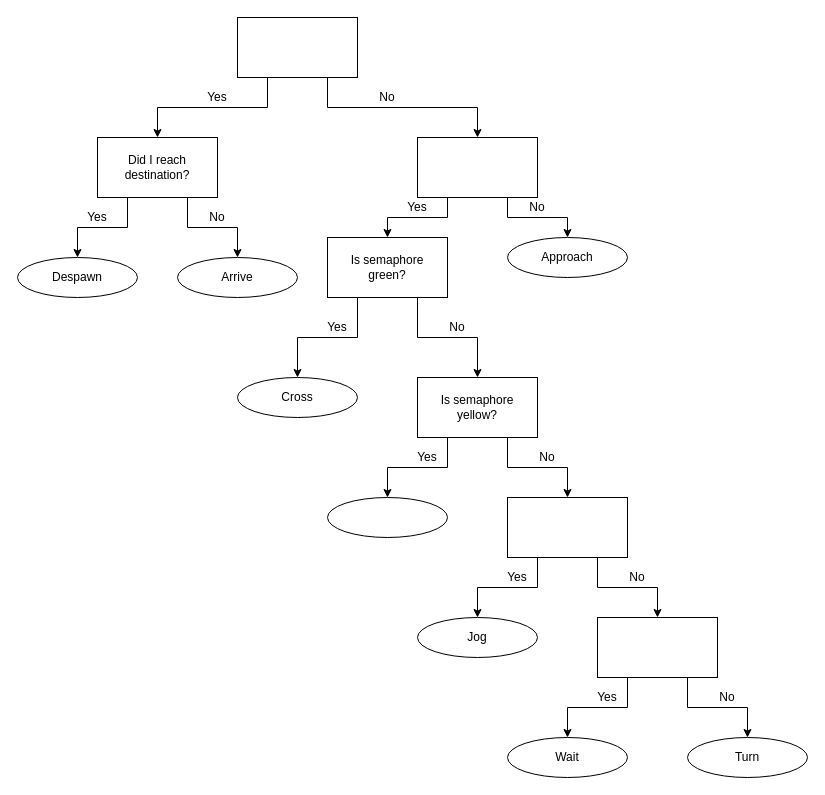
Image size: 825x795. Some labels were removed from this diagram. Here are the shapes that lost their labels. From the top down, the box of each, then its label:
(236, 16, 358, 78): Did I cross?
(416, 136, 538, 198): Am I near crossing?
(326, 496, 448, 538): Hasten
(506, 496, 628, 558): Did I pass half crossing?
(596, 616, 718, 678): Am I right before crossing?
